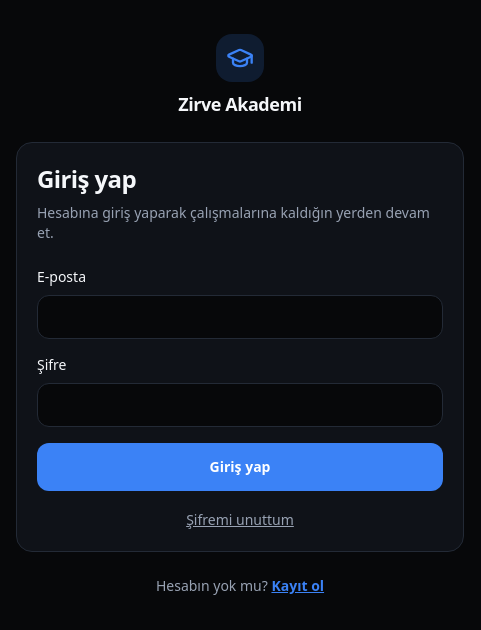
Test: yanlış girişte Türkçe hata gösterir ve giriş ekranında kalır
Type "deniz@example.com" into the field labelled "E-posta" at (240,317), box left=37, top=295, right=443, bottom=339
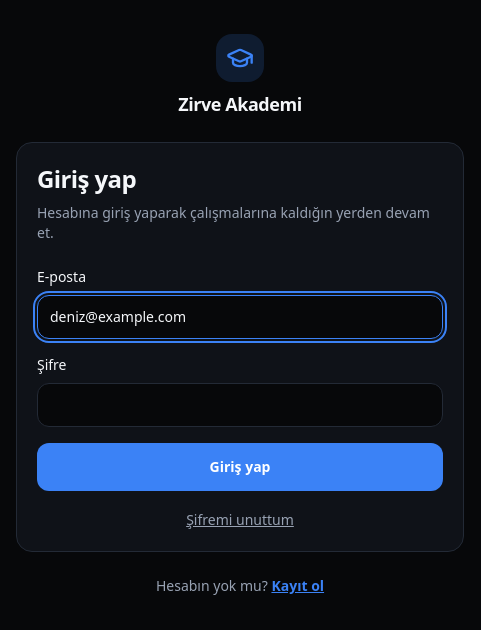
Type "yanlis-sifre" into the password field labelled "Şifre" at (240,405), box left=37, top=383, right=443, bottom=427
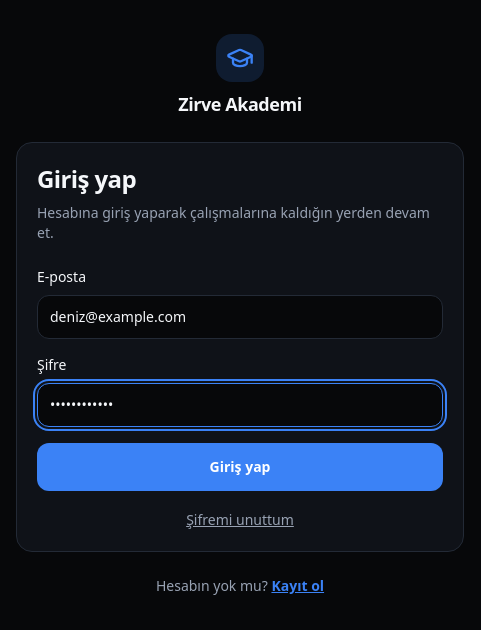
Click the button "Giriş yap" at (240,467), box left=37, top=443, right=443, bottom=491
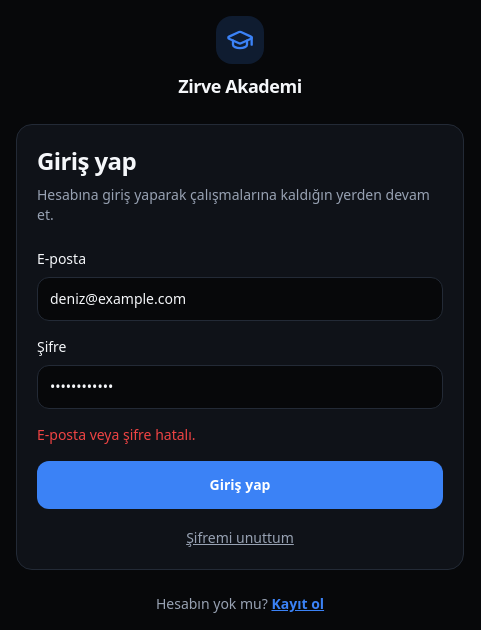
Expected: the heading "Giriş yap" is shown, left=37, top=144, right=136, bottom=177
Expected: the text "E-posta veya şifre hatalı." is shown, left=37, top=425, right=196, bottom=444
